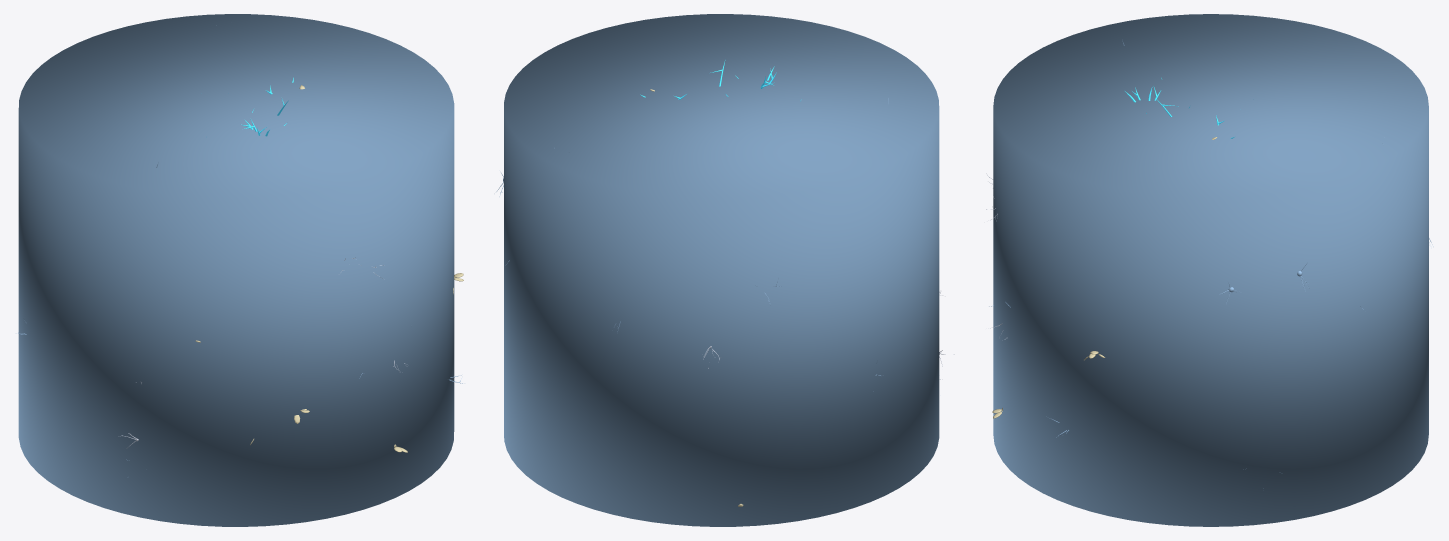
File: graft_environment.glb
3 renders of one model, left to right at view 1: azimuth 30°, elevation 25°; view 2: azimuth 150°, elevation 25°; view 3: azimuth 270°, elevation 25°, orthographic.
Parts seen in each view (by area): view 1: substantia_nigra.000; view 2: substantia_nigra.000; view 3: substantia_nigra.000.
Part boxes in pixels (x1,y1,x2,y2): substantia_nigra.000: [18, 14, 454, 526]; substantia_nigra.000: [504, 14, 939, 526]; substantia_nigra.000: [993, 14, 1428, 526].
Size of the model in its own units: 9.99 by 9.08 by 9.94.
